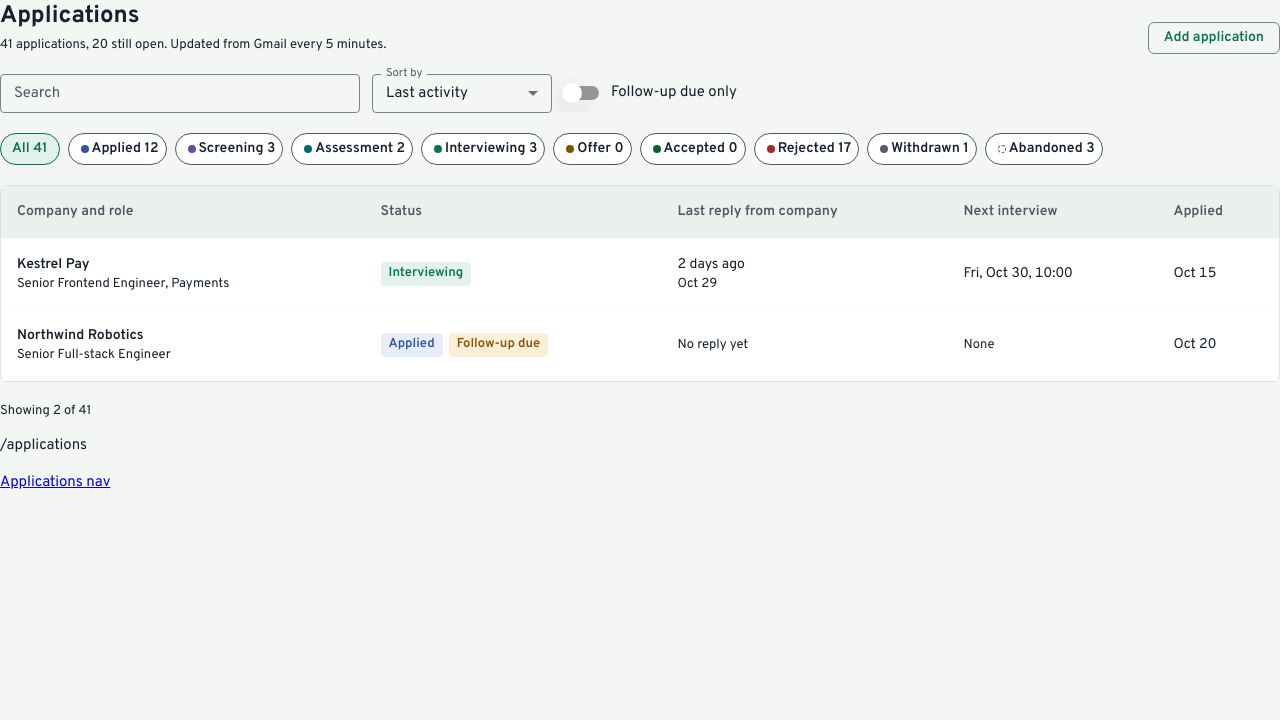
Scenario: ApplicationsPage › rejects a job link that is not http or https before sending anything
Expected: the link "Kestrel Pay" is shown, [17,256,90,273]
Click the button "Add application" at (1214, 38), box [1148,22,1279,54]
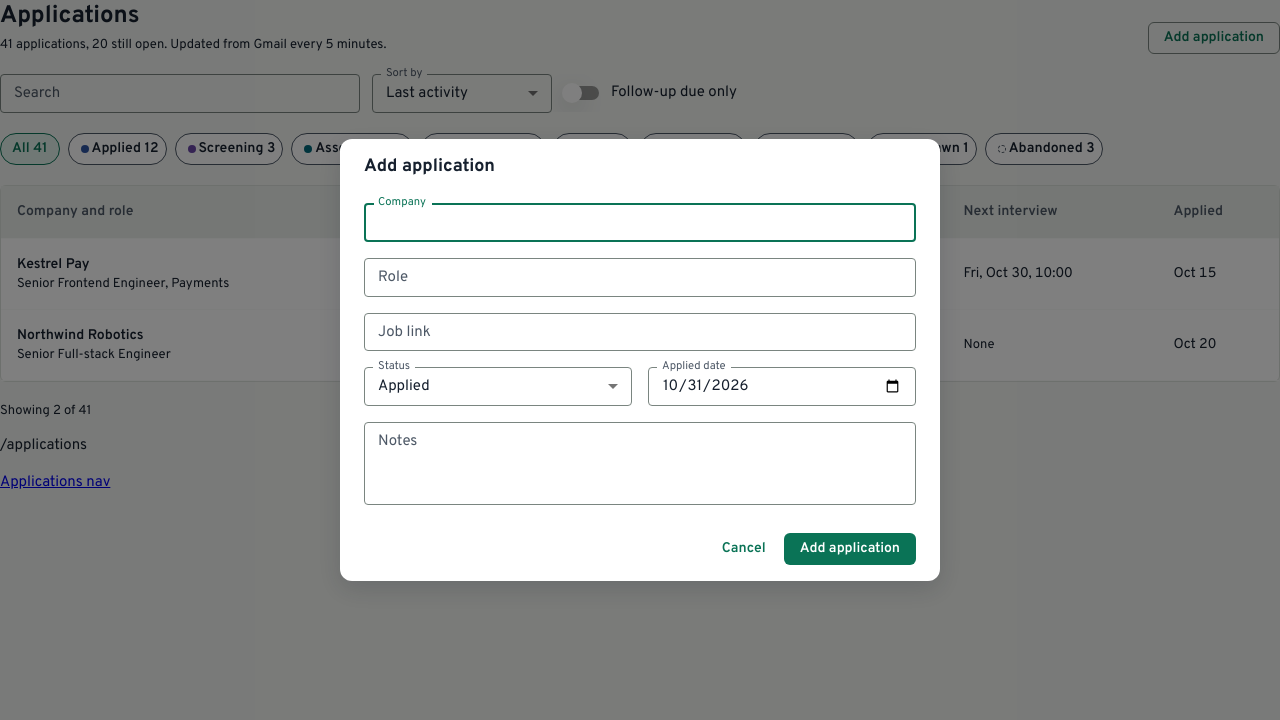
Type "Tidewater Labs" into the field labelled "Company" at (640, 223), box [364,203,916,242]
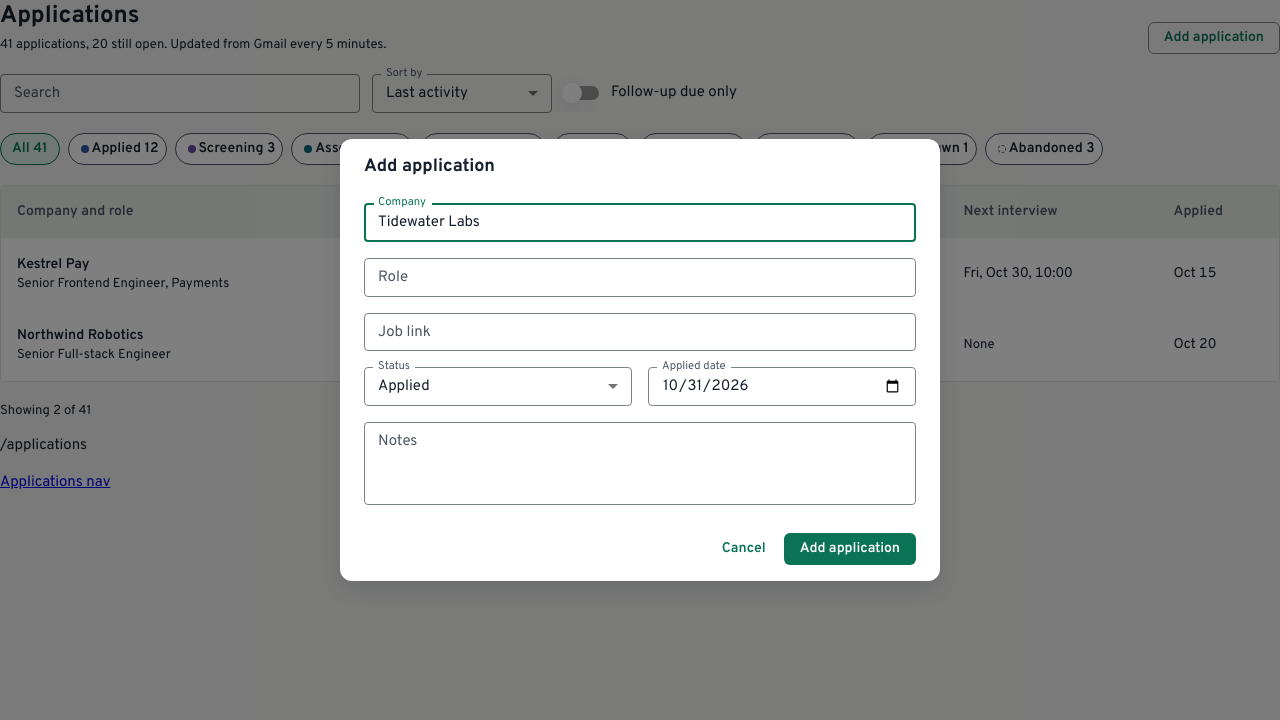
Type "Staff Engineer" into the field labelled "Role" at (640, 277), box [364,258,916,296]
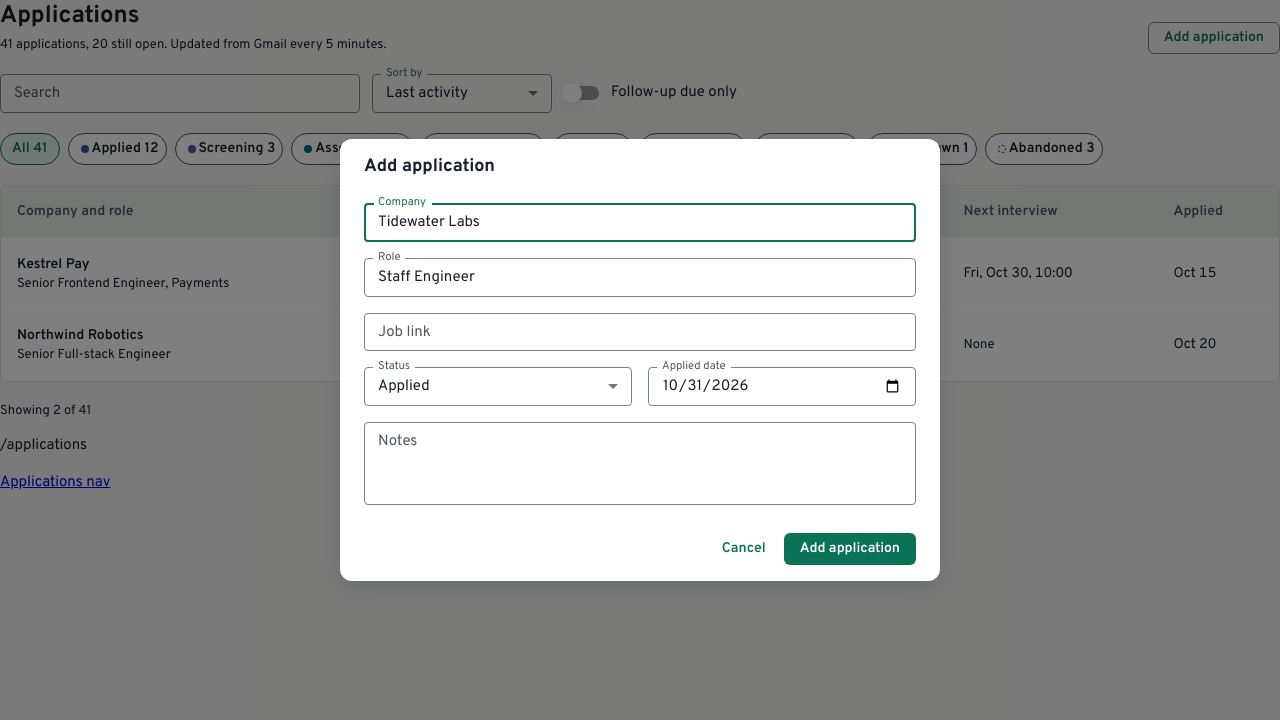
Type "javascript:alert(1)" into the field labelled "Job link" at (640, 332), box [364,312,916,351]
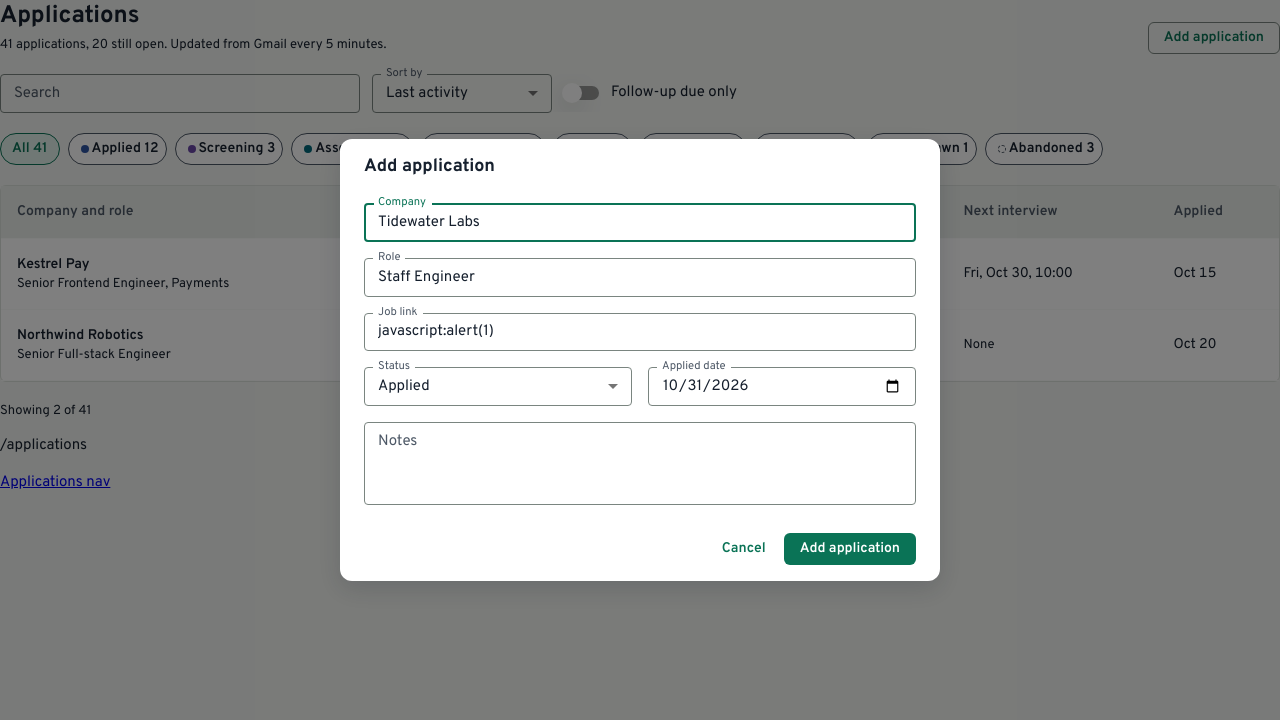
Click the button "Add application" at (850, 549), box [784,533,916,565]
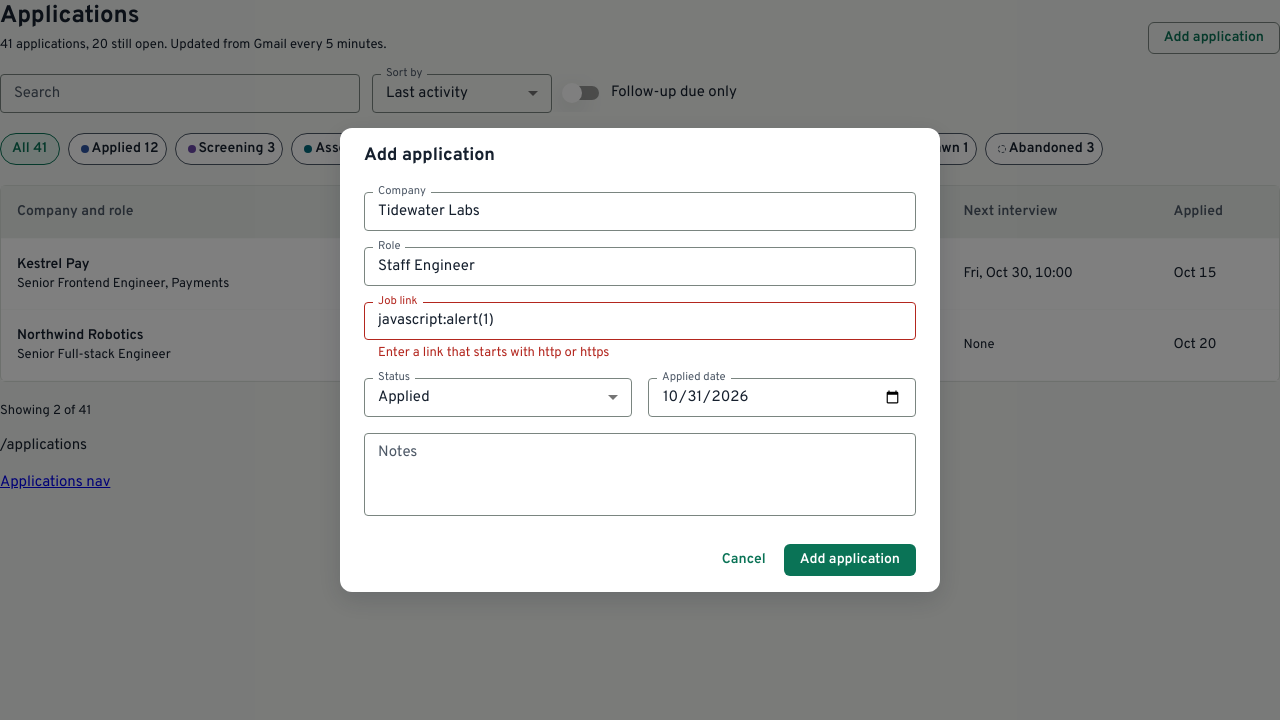
Expected: the text "Enter a link that starts with http or https" is shown, [378,345,610,361]
